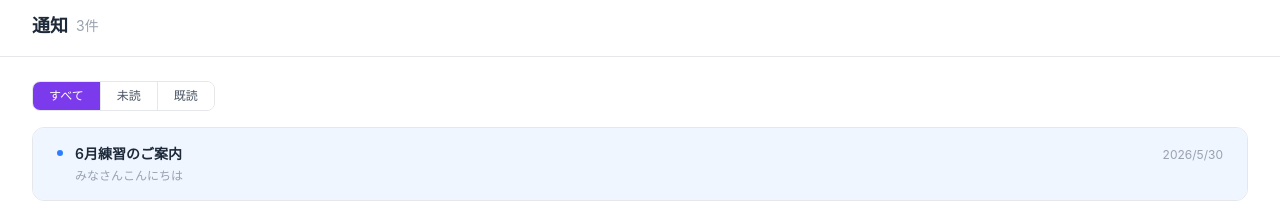
NotificationsPage（取得エラー・再取得中） › タブを切り替えて読み込んでいる間も、タブと直前の一覧を残し、前のタブの件数や新しいタブの空状態を出さない
Expected: the text "3件" is shown, [76,16,99,36]
Click the button "未読". click: point(129, 96)
box: [101,82,158,110]
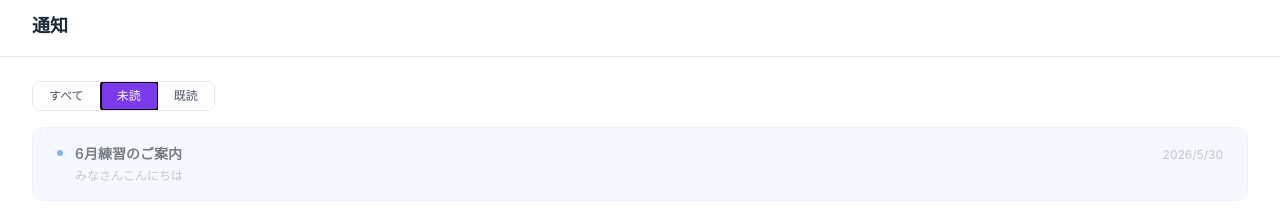
Result: the text "3件" is gone
